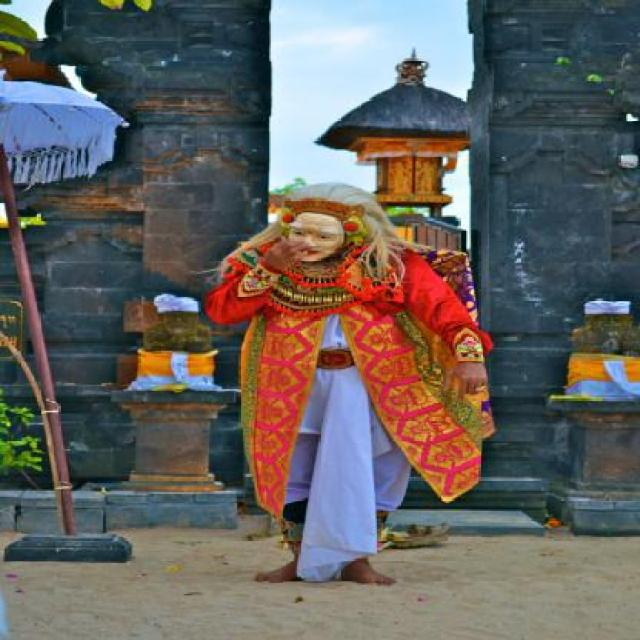Person: (218, 172, 480, 576)
